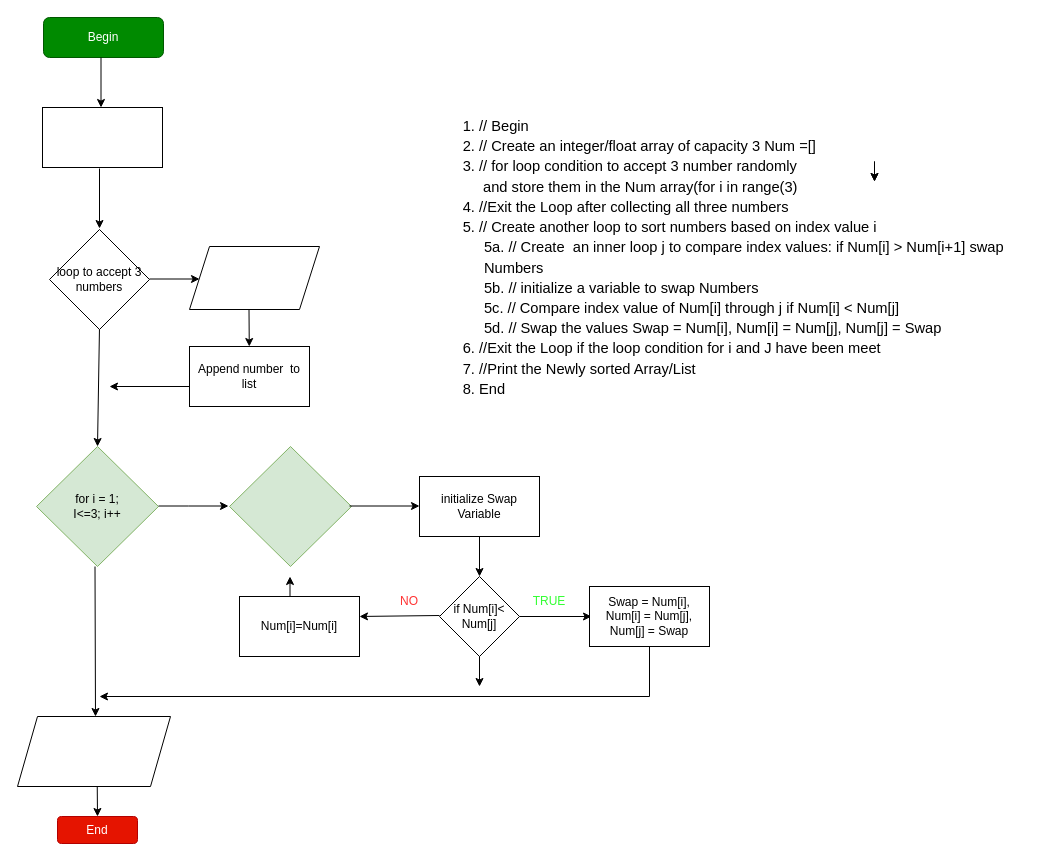
Image size: 1047x861. Some labels were removed from this diagram. The shapes that lost their labels are listed below. From the top down, each one's centre as x and y in pixels, then its label:
At point (102, 137): "Create and Initialize Array of size 3".
At point (254, 278): "Enter Numbers to Sort".
At point (290, 506): "for j = 1; j<=3; i++".
At point (93, 751): "Exit For Looop and Print Sorted List".
